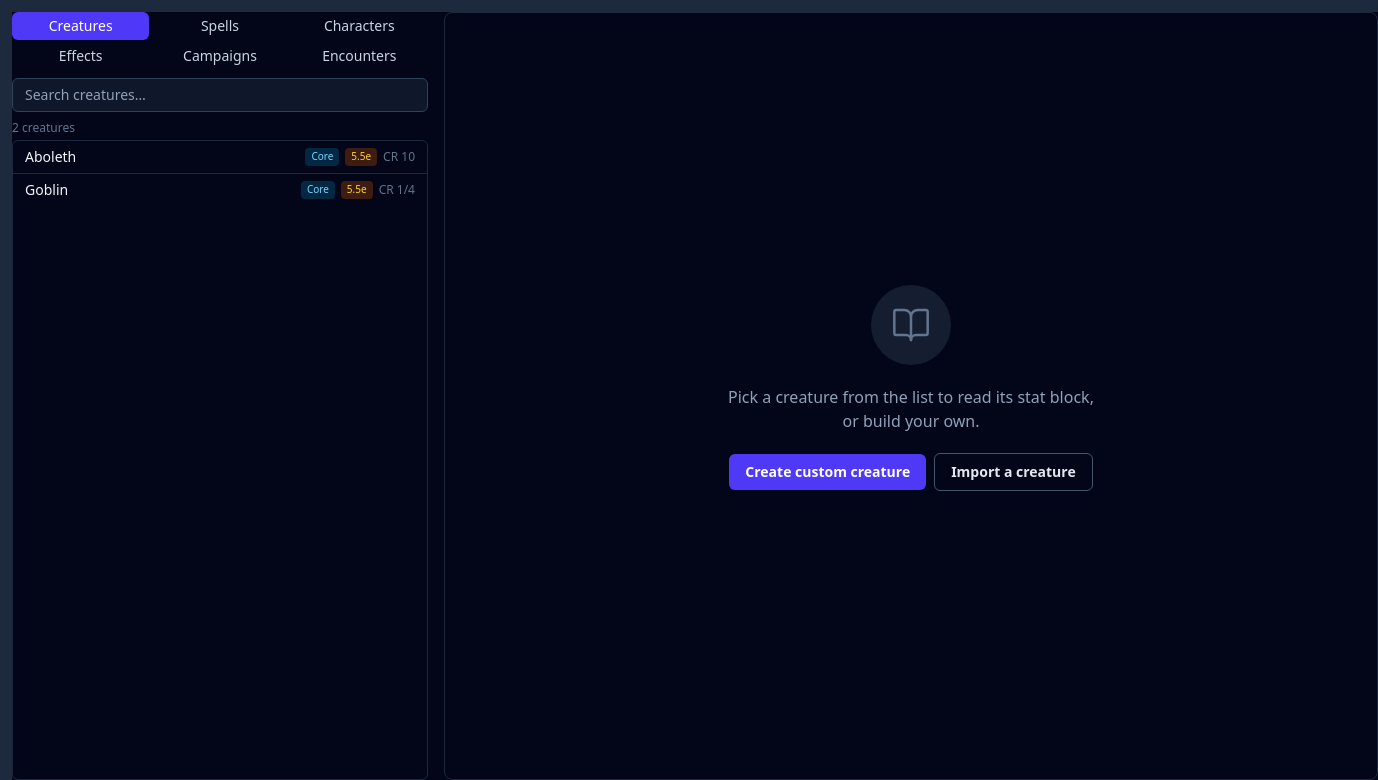
Scenario: Compendium › shows a stat block when a creature is selected
Step 1. Click the text "Aboleth" → coordinates (51, 157), box left=25, top=147, right=76, bottom=167
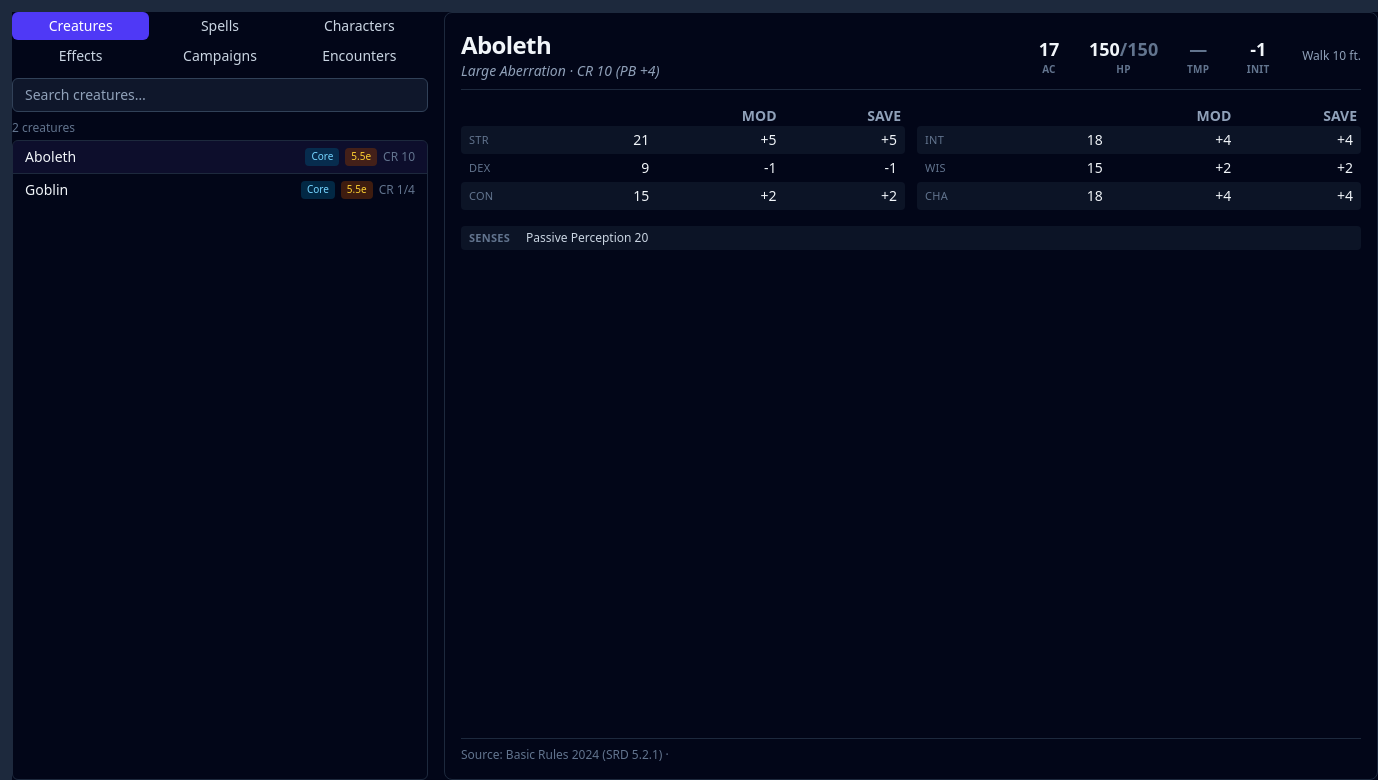
Expected: the text "Large Aberration · CR 10 (PB +4)" is shown, left=461, top=61, right=660, bottom=80
